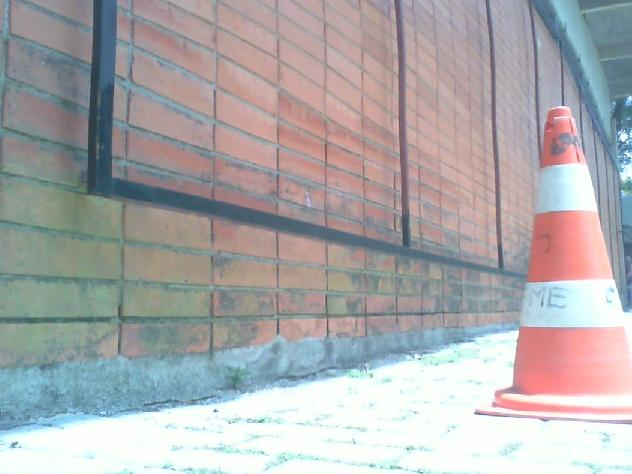0 cone: (472, 106, 632, 423)
